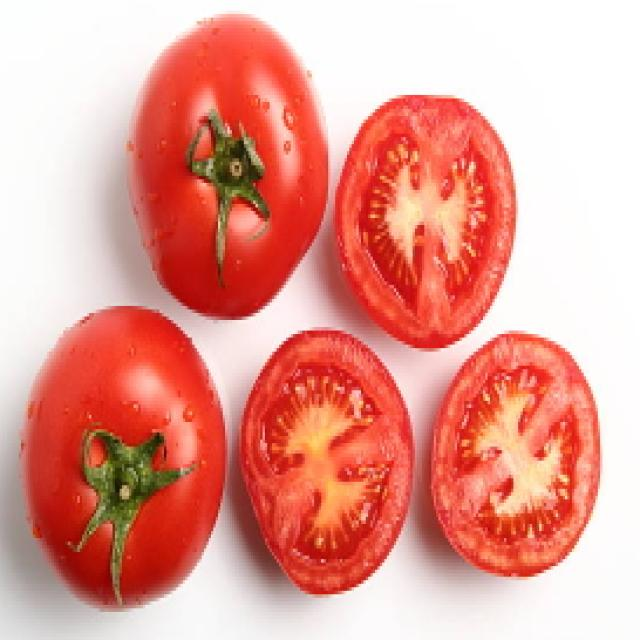Tomato: (13, 319, 225, 611), (118, 25, 338, 303), (416, 299, 600, 587), (348, 68, 524, 341), (249, 319, 415, 599)
